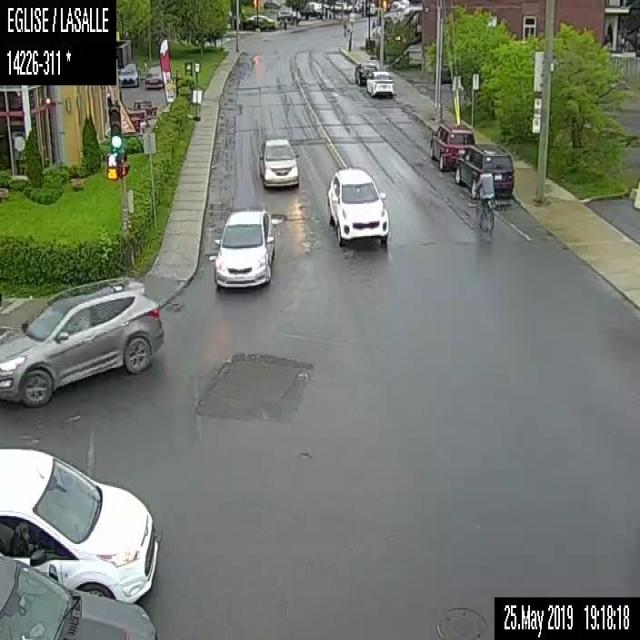cyclist: (472, 160, 497, 232)
vehicle: (0, 444, 158, 604), (0, 281, 164, 407), (0, 550, 158, 638), (213, 208, 277, 288), (326, 167, 389, 245), (454, 142, 514, 200), (429, 119, 473, 172), (258, 136, 298, 188), (366, 70, 394, 97), (352, 60, 377, 85), (117, 61, 139, 87), (275, 7, 300, 25), (300, 1, 326, 18), (144, 64, 162, 87), (248, 15, 275, 29)
